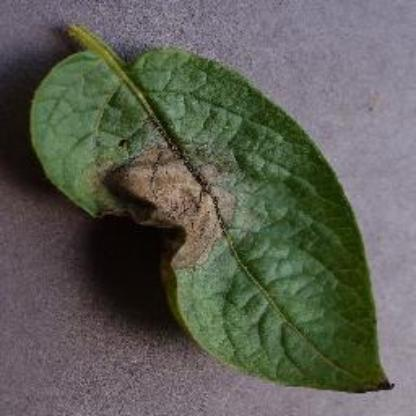Late-Blight: (20, 44, 394, 402)
